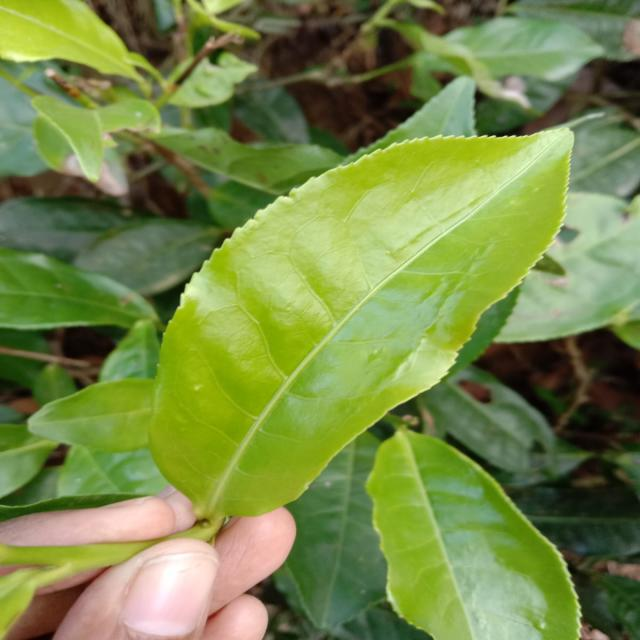Category C(4-7 days): (99, 100, 596, 544)
